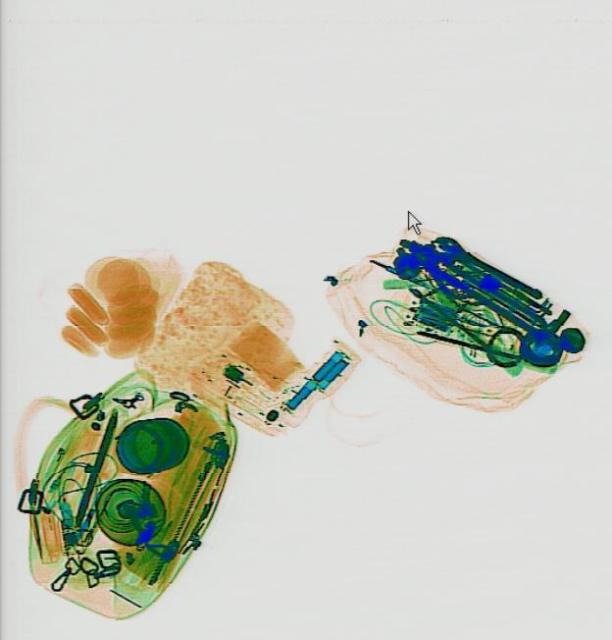Wrench: (428, 230, 545, 304)
